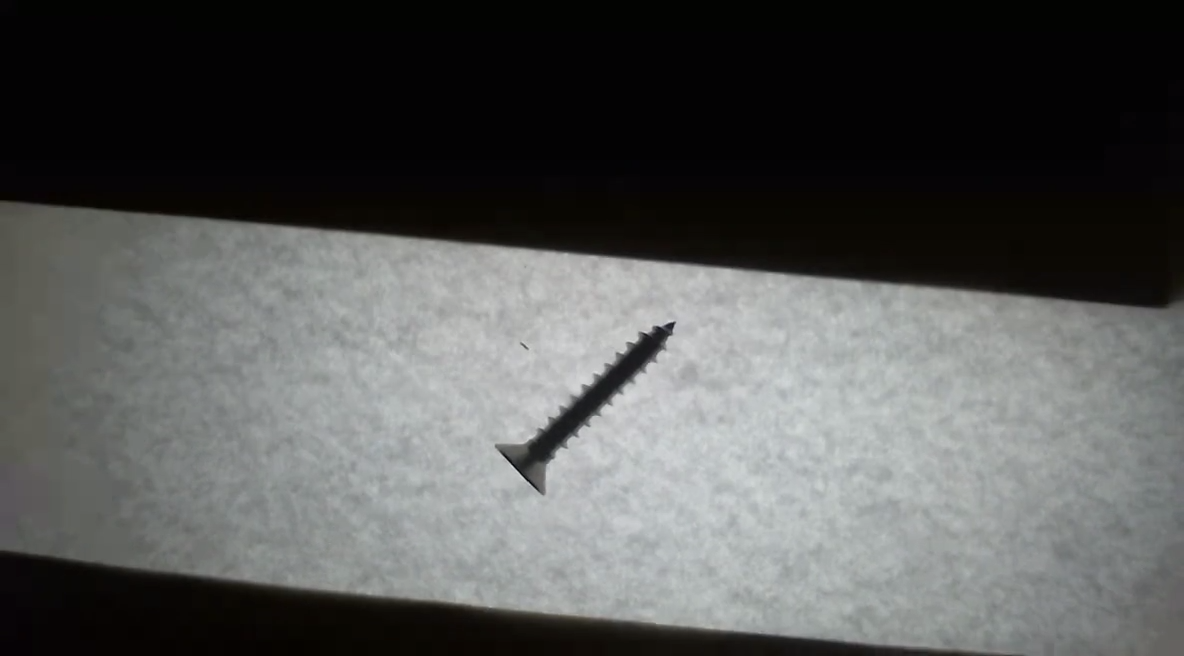S001: (479, 298, 715, 516)
